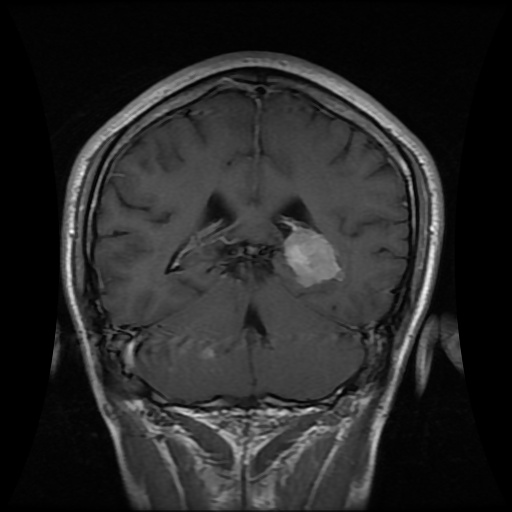meningioma: (282, 227, 341, 286)
